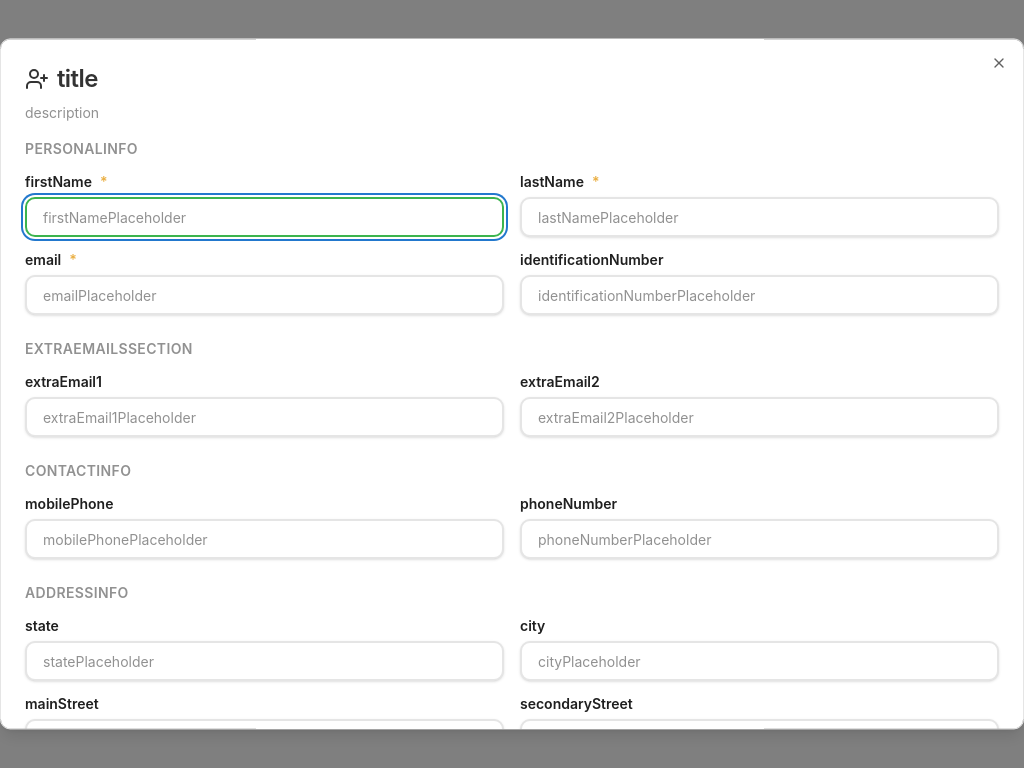
Scenario: AddClientDialog › shows validation error when lastName is empty on submit
The width and height of the screenshot is (1024, 768).
In the field labelled "firstName *": (264, 217) [25,197,504,237], type "John"
(page scrolled)
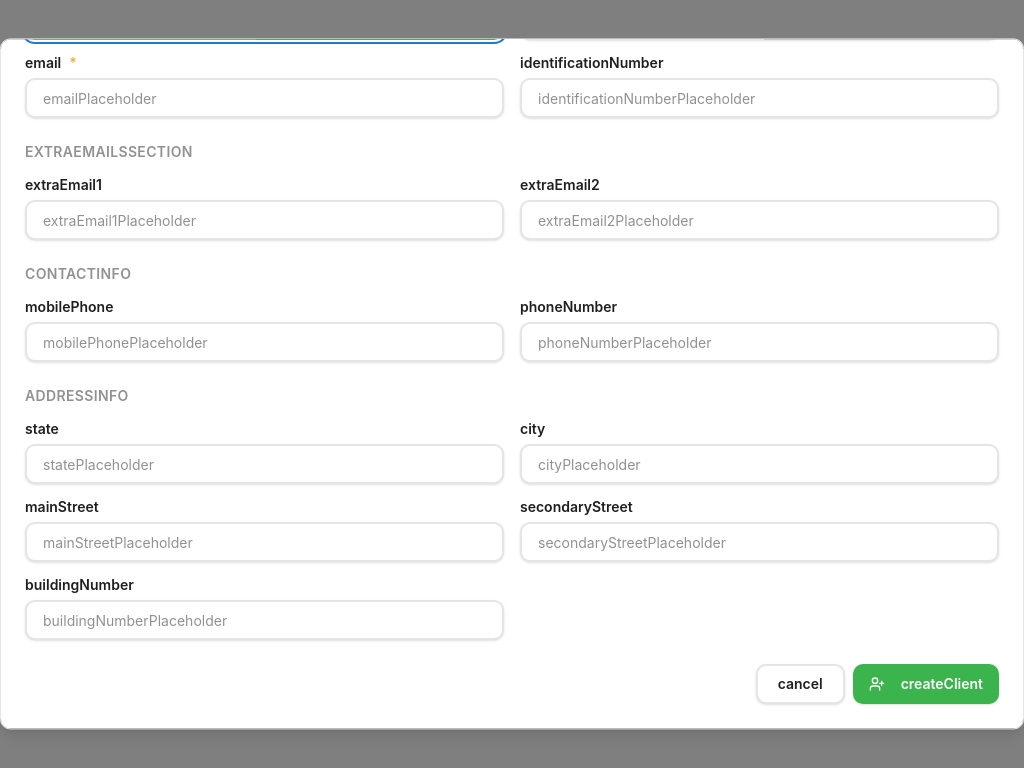
Click the button "createClient": (926, 684) [853,664,999,704]
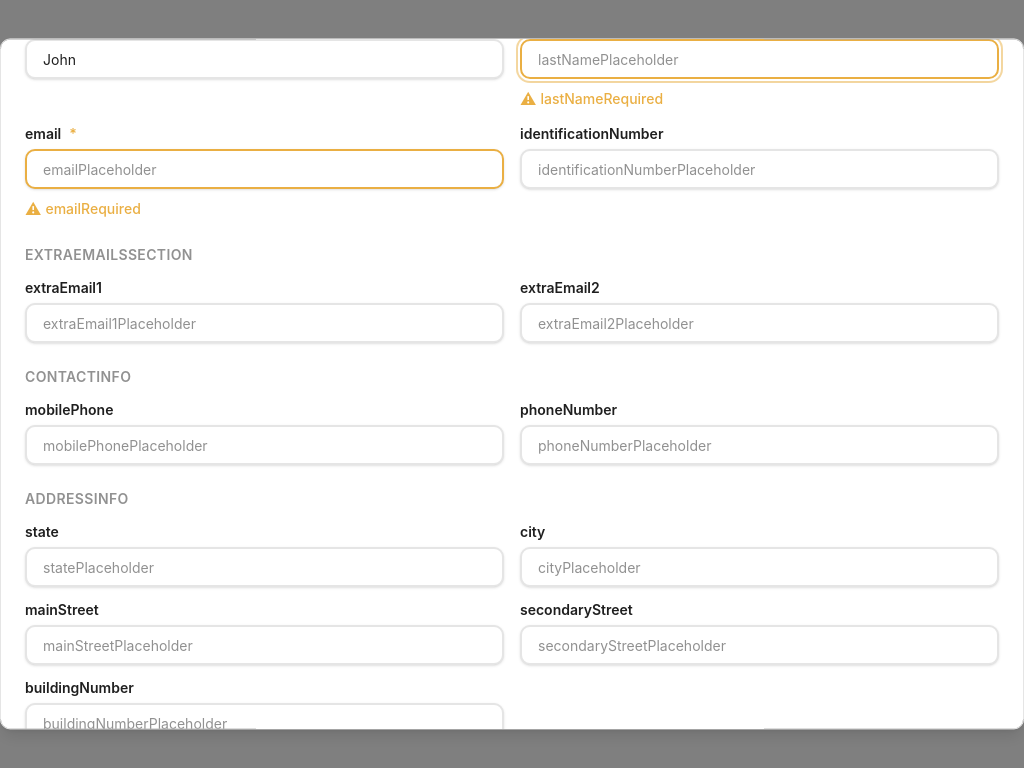
Check: the text "lastNameRequired" is shown, box [540,90,663,107]
